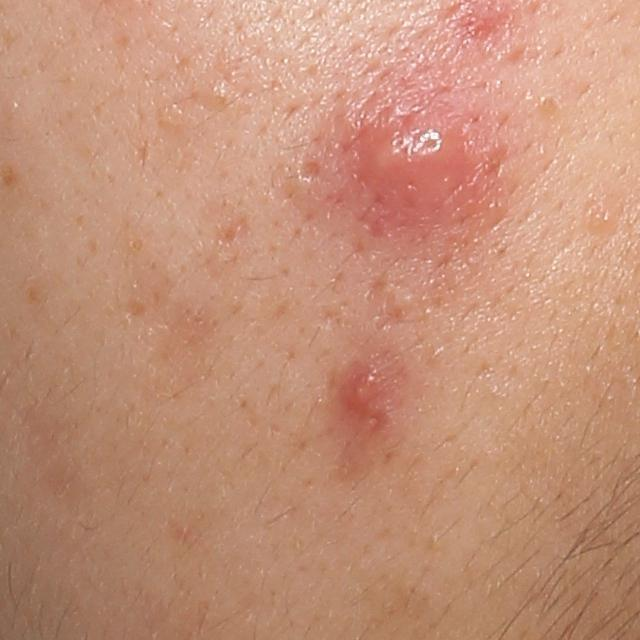atrophic_scar: (370, 276, 405, 336), (213, 218, 250, 245), (297, 158, 324, 182), (124, 298, 150, 321)
comedo: (593, 206, 618, 231), (209, 83, 233, 104)
papule: (337, 358, 390, 418)
